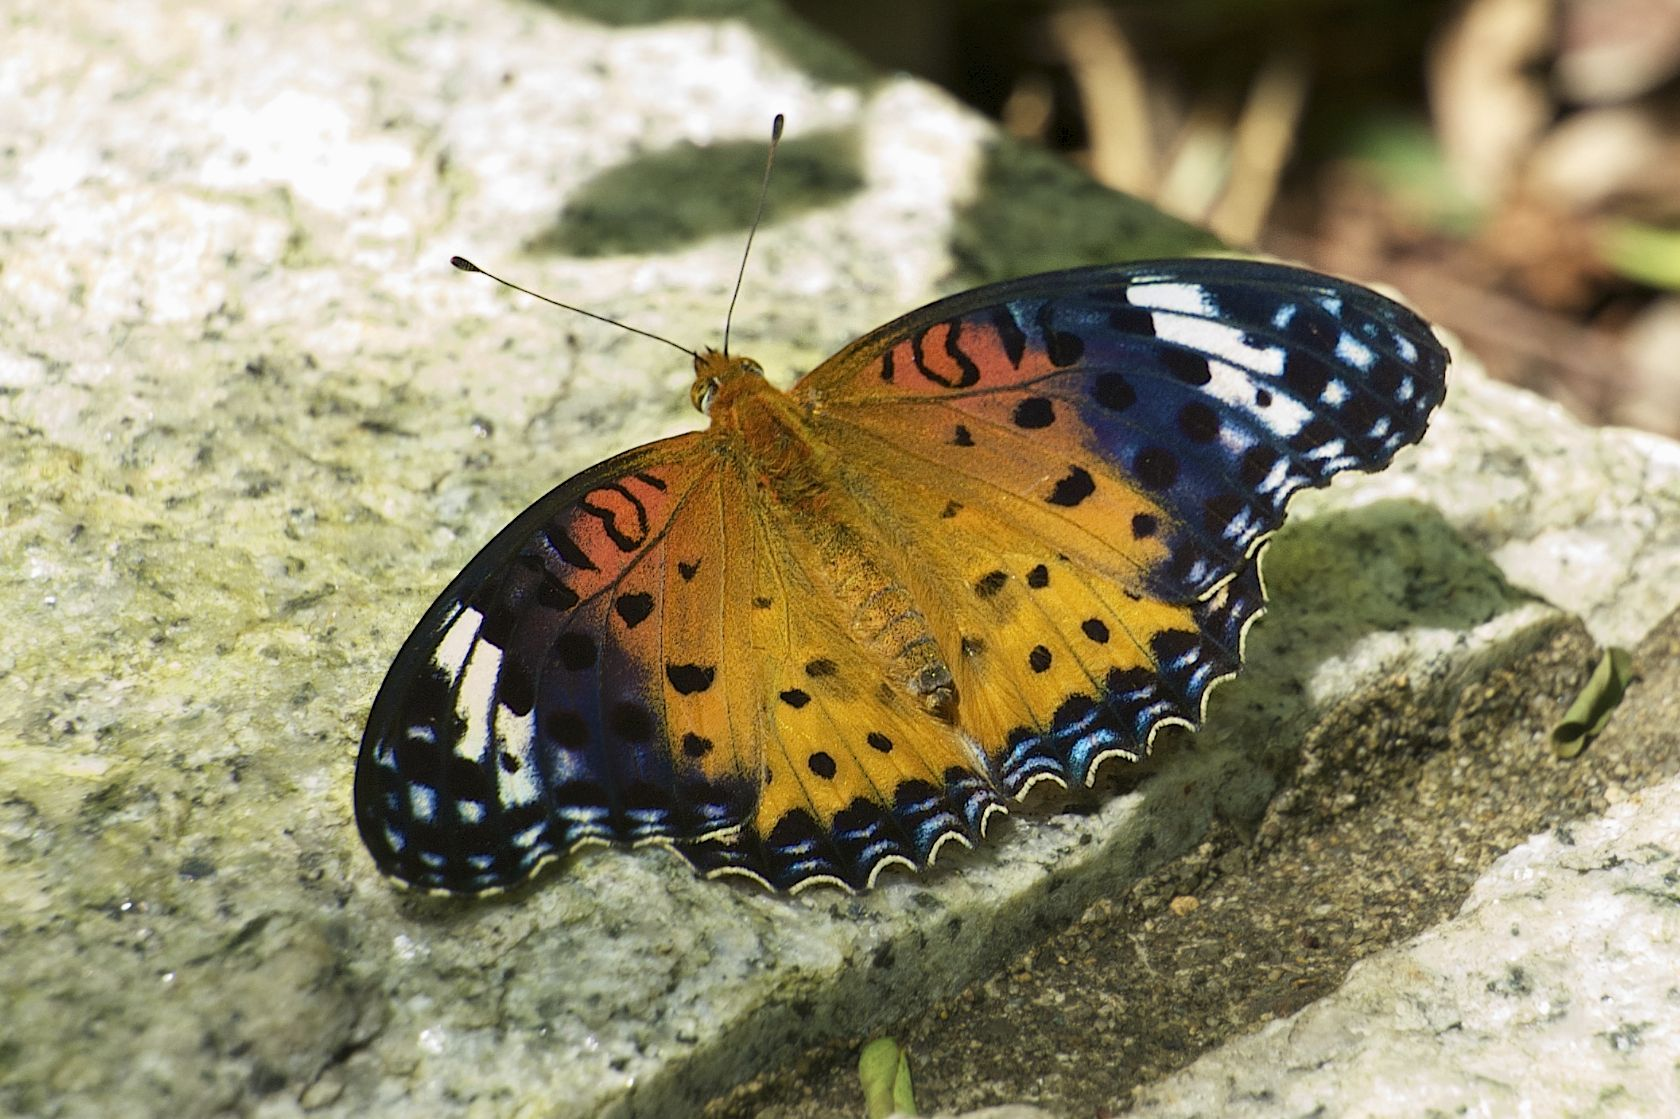Argyreus hyperbius: (337, 107, 1461, 915)
butterfly: (338, 109, 1464, 917)
